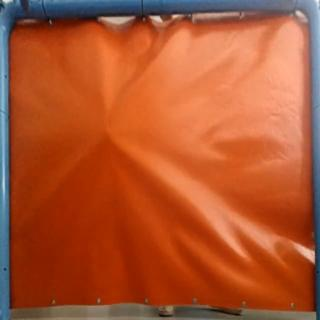Hit-hRxx: (101, 123, 117, 140)
